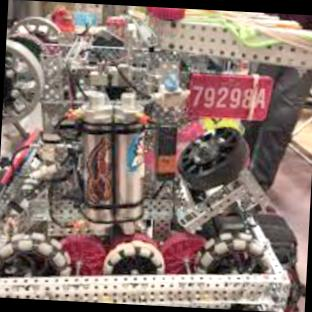Robot: (0, 6, 312, 312)
